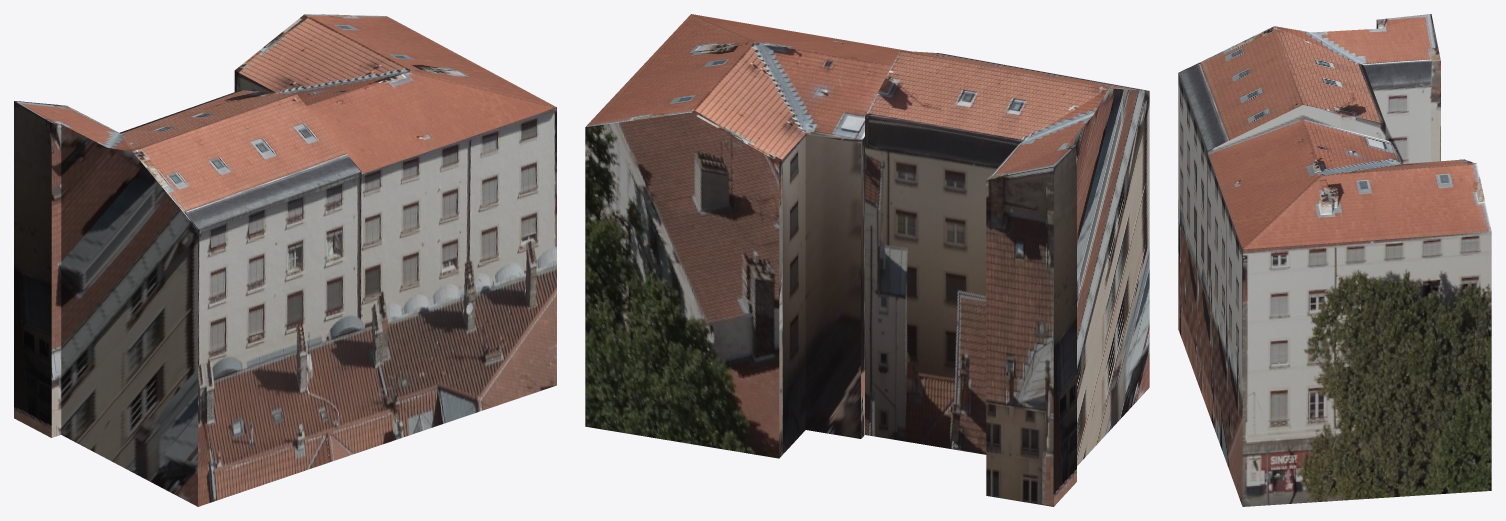
The picture shows the model from 3 angles, left to right: view 1: azimuth 30°, elevation 25°; view 2: azimuth 150°, elevation 25°; view 3: azimuth 270°, elevation 25°; orthographic projection. The views are drawn at different scales.
Parts seen in each view (by area): view 1: Z_UP; view 2: Z_UP; view 3: Z_UP.
Part boxes in pixels (left/top/right/bottom): Z_UP: left=14, top=14, right=556, bottom=506; Z_UP: left=585, top=14, right=1149, bottom=506; Z_UP: left=1178, top=14, right=1491, bottom=506.
Size of the model in its own units: 33.94 by 23.78 by 22.59.
Materials: 2 (1 with a texture image).
